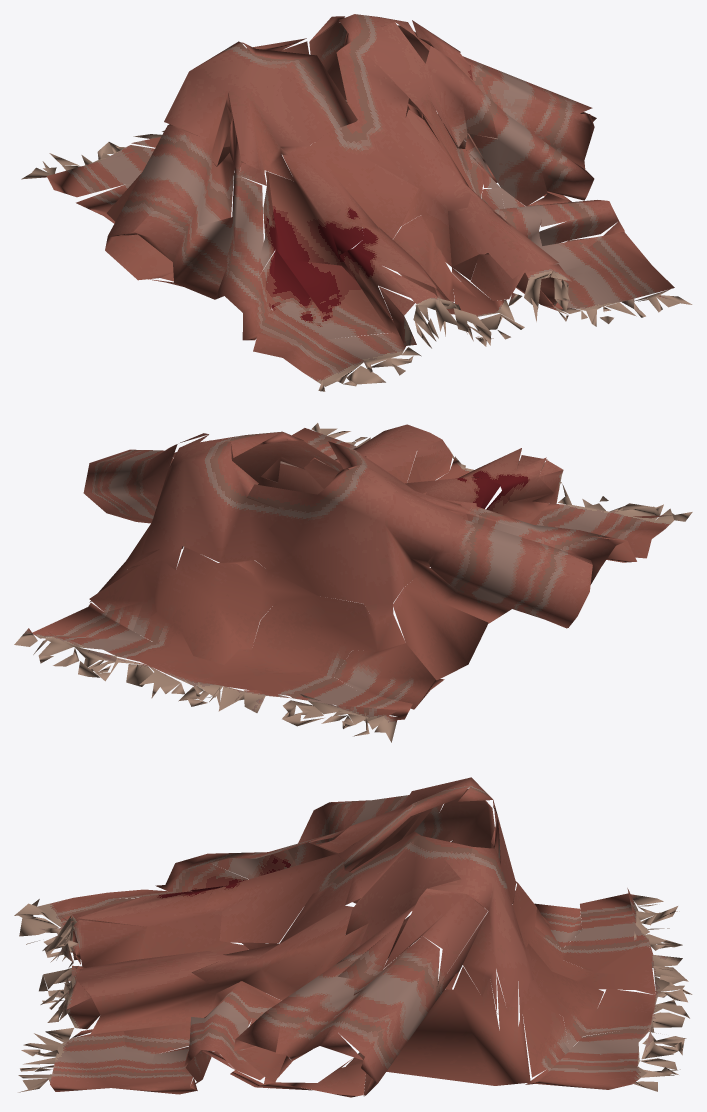
File: poncho.glb
The picture shows the model from 3 angles, top to bottom: view 1: azimuth 30°, elevation 25°; view 2: azimuth 150°, elevation 25°; view 3: azimuth 270°, elevation 25°; orthographic projection. The views are drawn at different scales.
Parts seen in each view (by area): view 1: tripo_node_5c49504e-e19c-468d-ac43-99f44595fb70; view 2: tripo_node_5c49504e-e19c-468d-ac43-99f44595fb70; view 3: tripo_node_5c49504e-e19c-468d-ac43-99f44595fb70.
Boxes of the visible parts, left/top/right/bottom form: tripo_node_5c49504e-e19c-468d-ac43-99f44595fb70: left=21, top=14, right=692, bottom=391; tripo_node_5c49504e-e19c-468d-ac43-99f44595fb70: left=14, top=423, right=692, bottom=742; tripo_node_5c49504e-e19c-468d-ac43-99f44595fb70: left=14, top=777, right=692, bottom=1097.
Size of the model in its own units: 2.98 by 1.02 by 3.33.
1 material, 1 textured.
